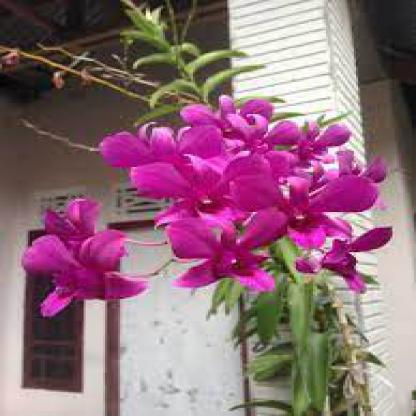ANGGREK: (12, 94, 398, 364)
